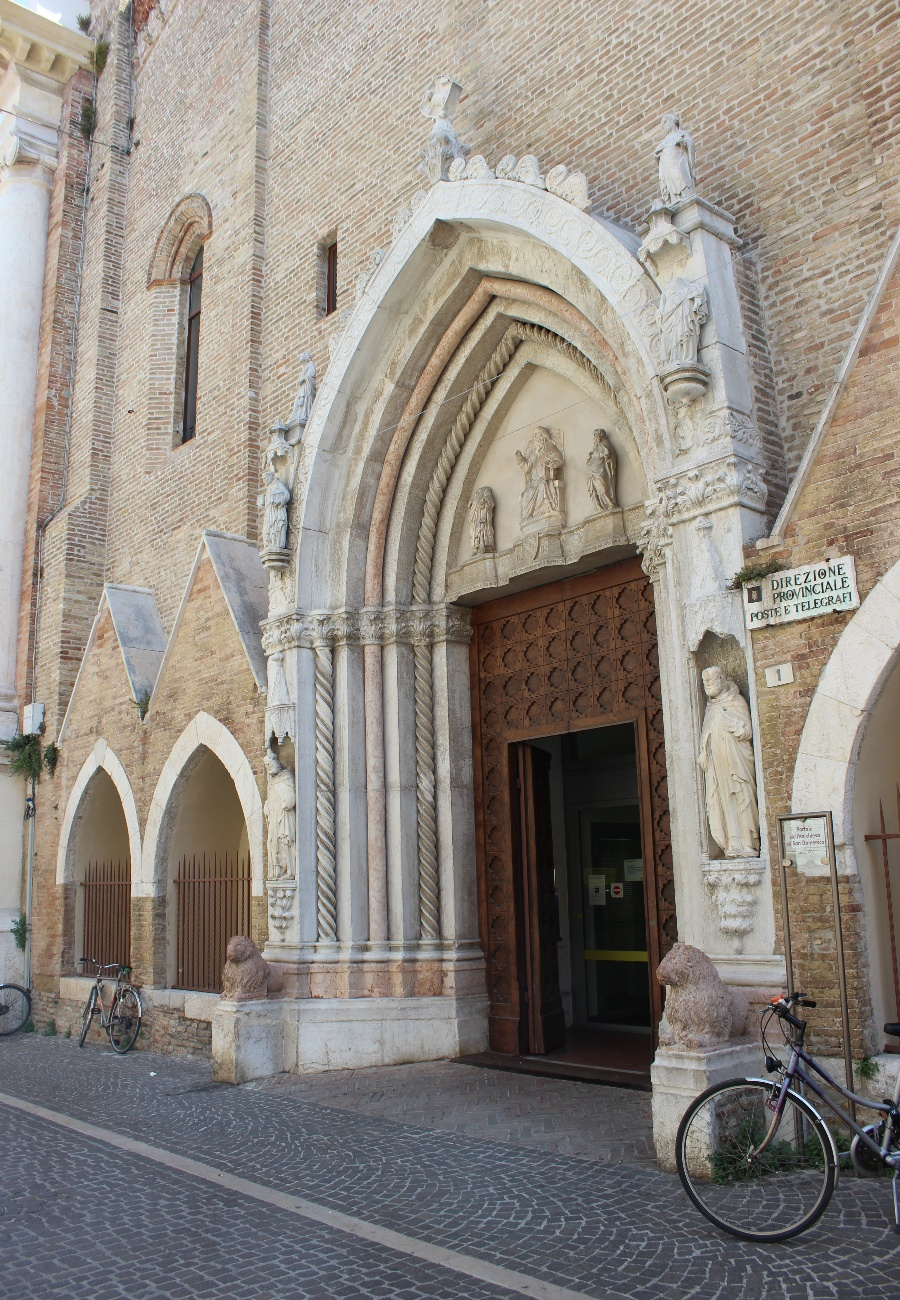Portale San Domenico: (216, 73, 766, 1057)
